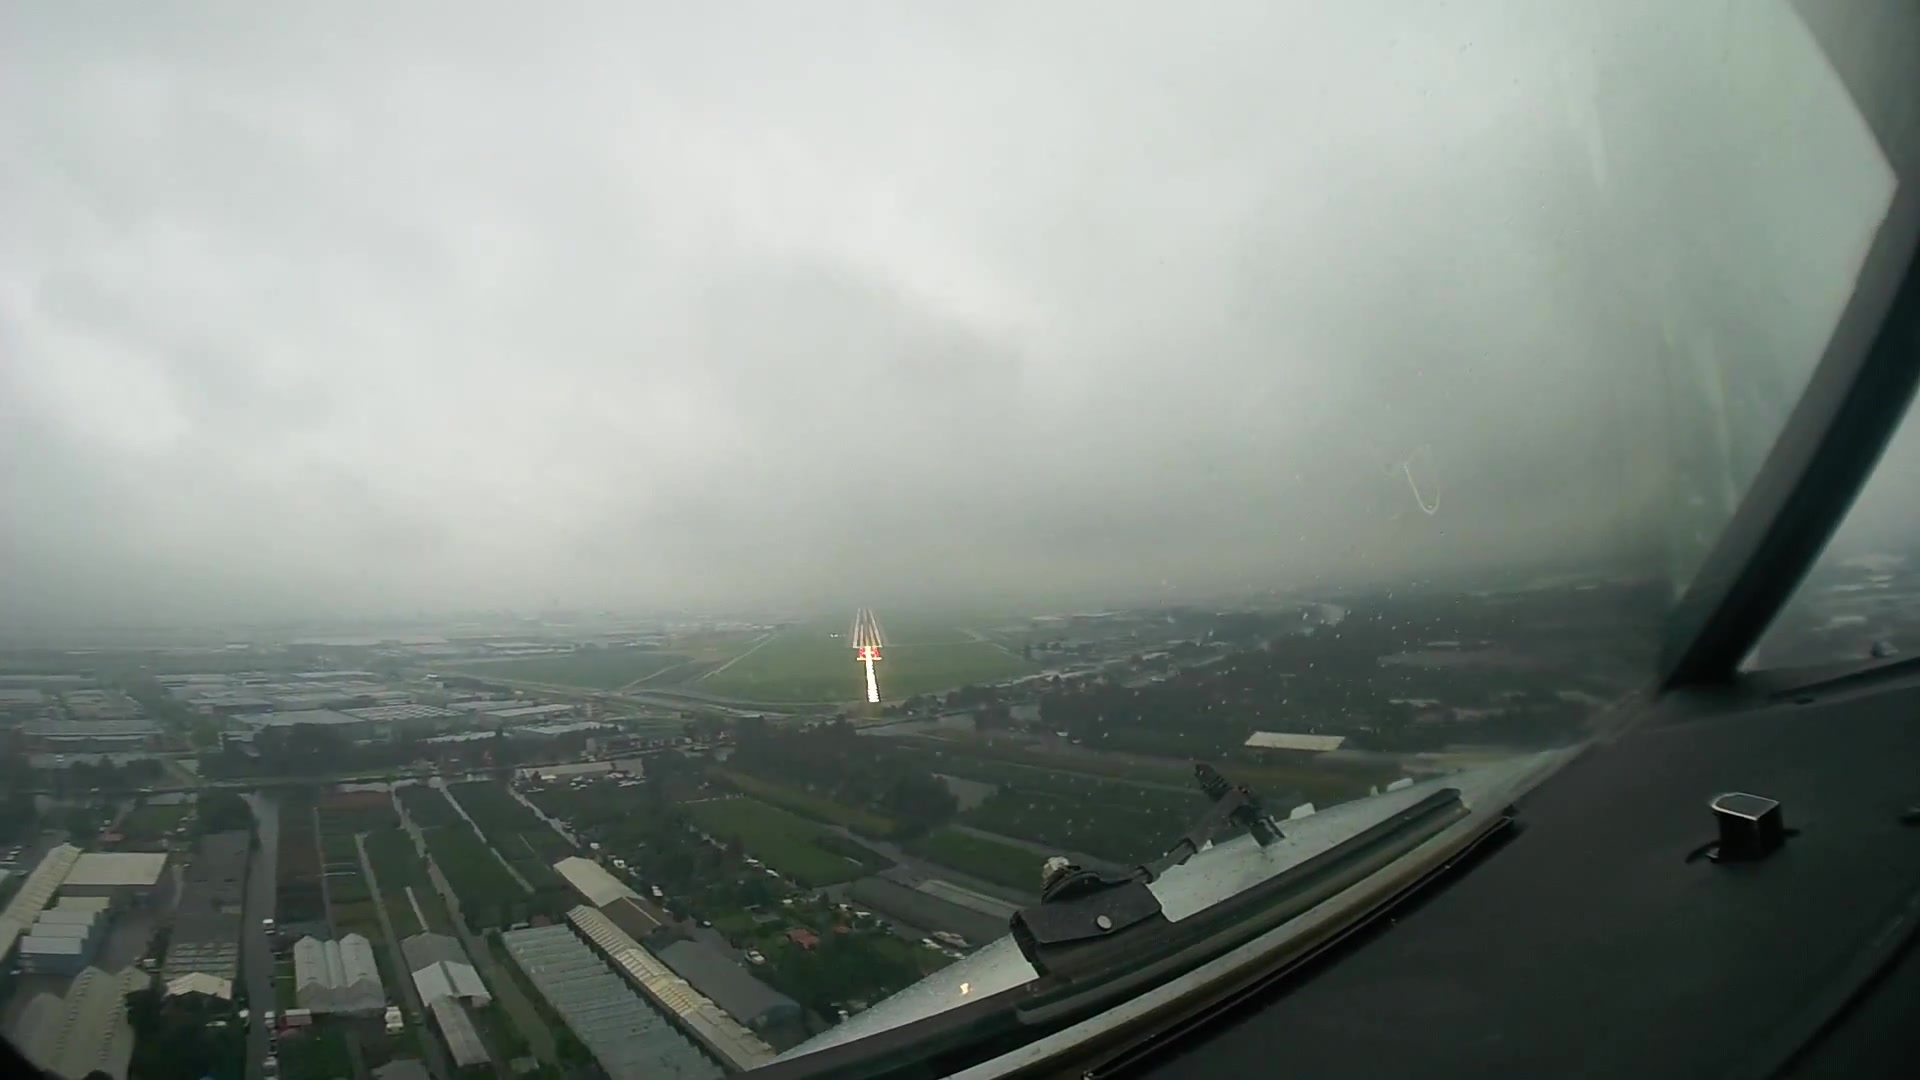runway: (852, 607, 884, 651)
